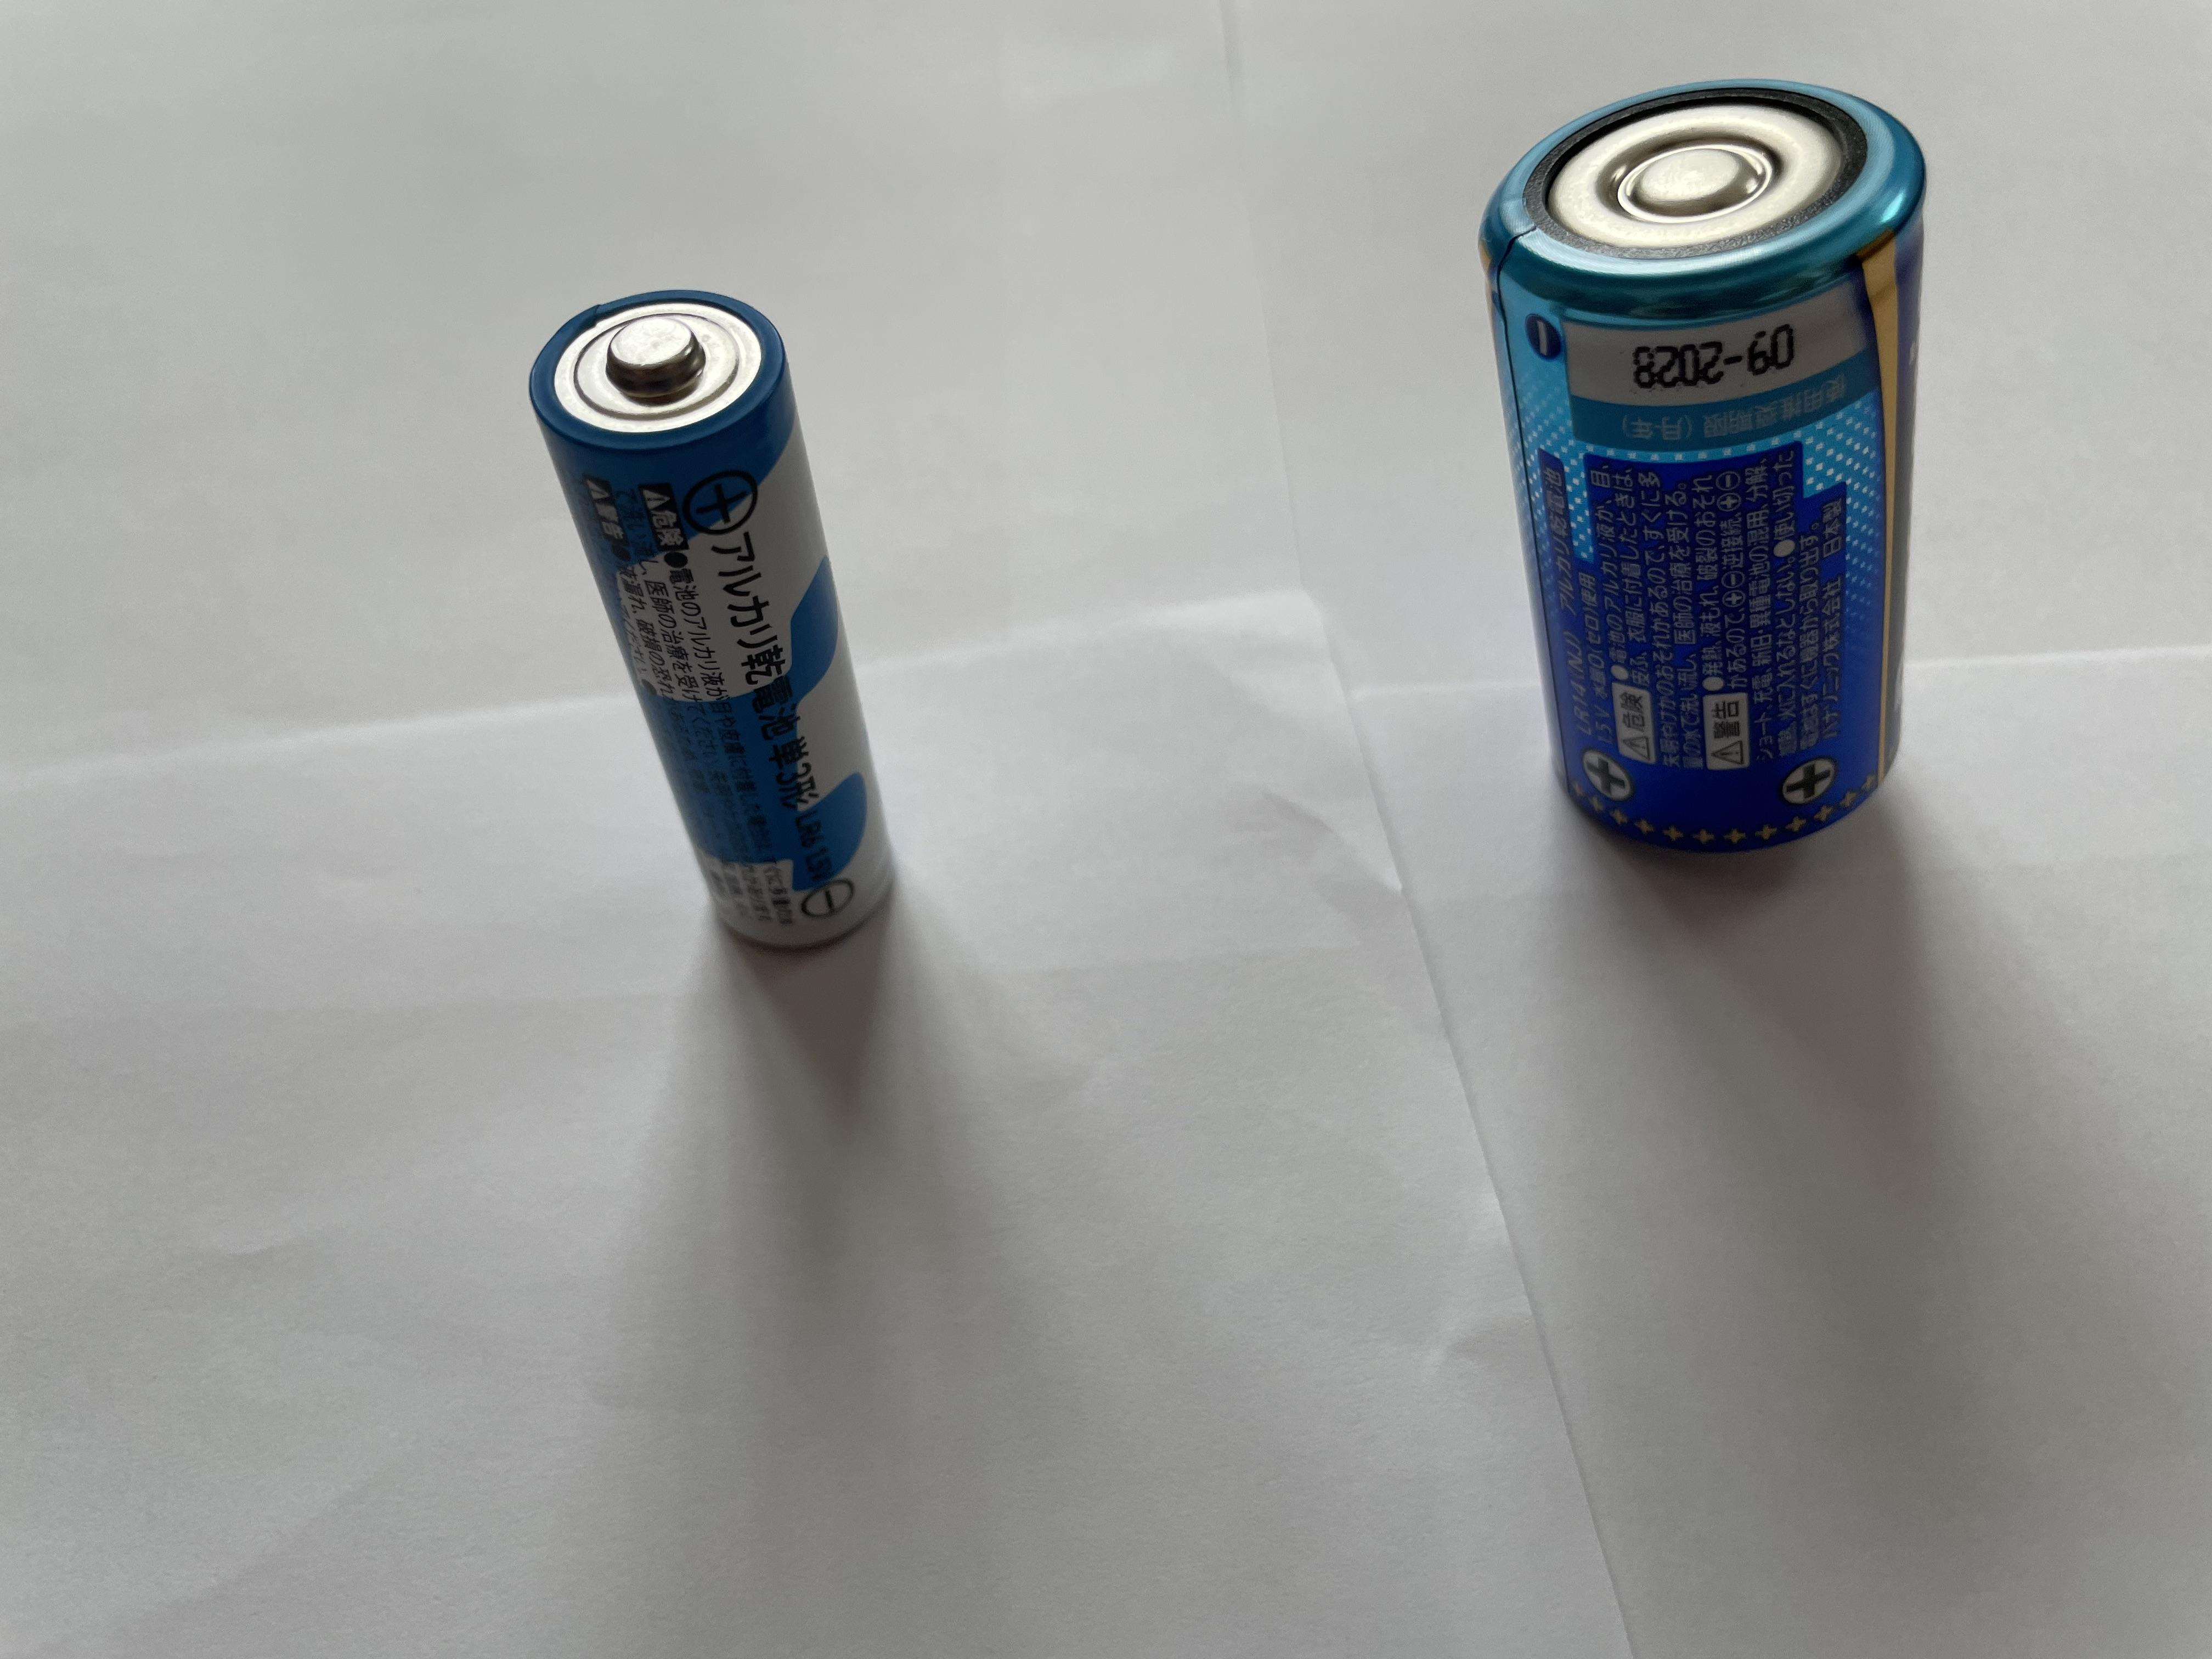Battery: (524, 284, 895, 957)
